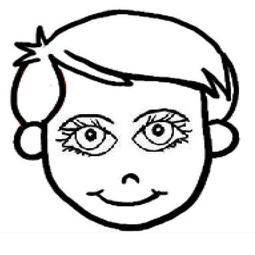ear: (9, 123, 55, 161), (203, 122, 244, 161)
eye: (129, 114, 198, 153), (57, 118, 119, 155)
eyebrow: (130, 103, 196, 123), (57, 110, 119, 126)
mouth: (83, 185, 169, 207)
nose: (112, 164, 147, 184)
